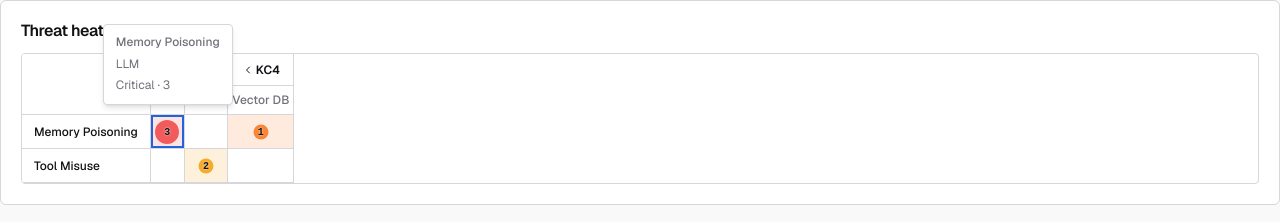
Test: Heatmap › renders a grid with roving tabindex, keyboard nav and collapsible groups
Press ArrowRight in the cell "3", box x1=151 y1=115 x2=185 y2=149
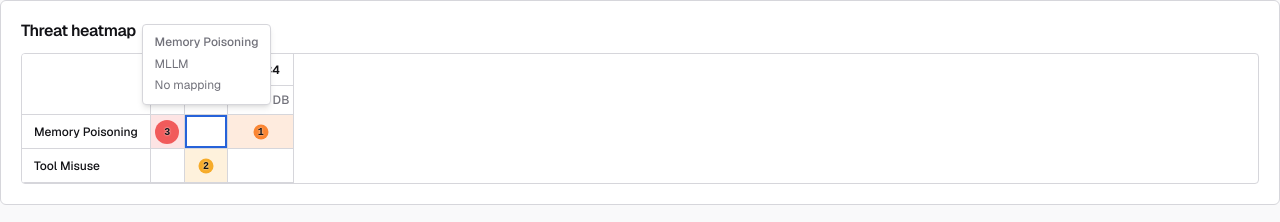
Press Enter in the cell named "Memory Poisoning × MLLM: none", box x1=185 y1=115 x2=228 y2=149
Click the button "KC1" at (189, 70), box x1=167 y1=60 x2=211 y2=80
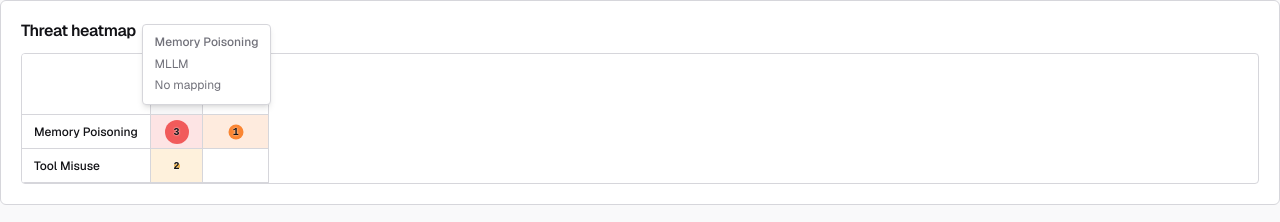
Expected: the number of cells is 4, x1=151 y1=115 x2=203 y2=149; x1=203 y1=115 x2=269 y2=149; x1=151 y1=149 x2=203 y2=183; x1=203 y1=149 x2=269 y2=183
